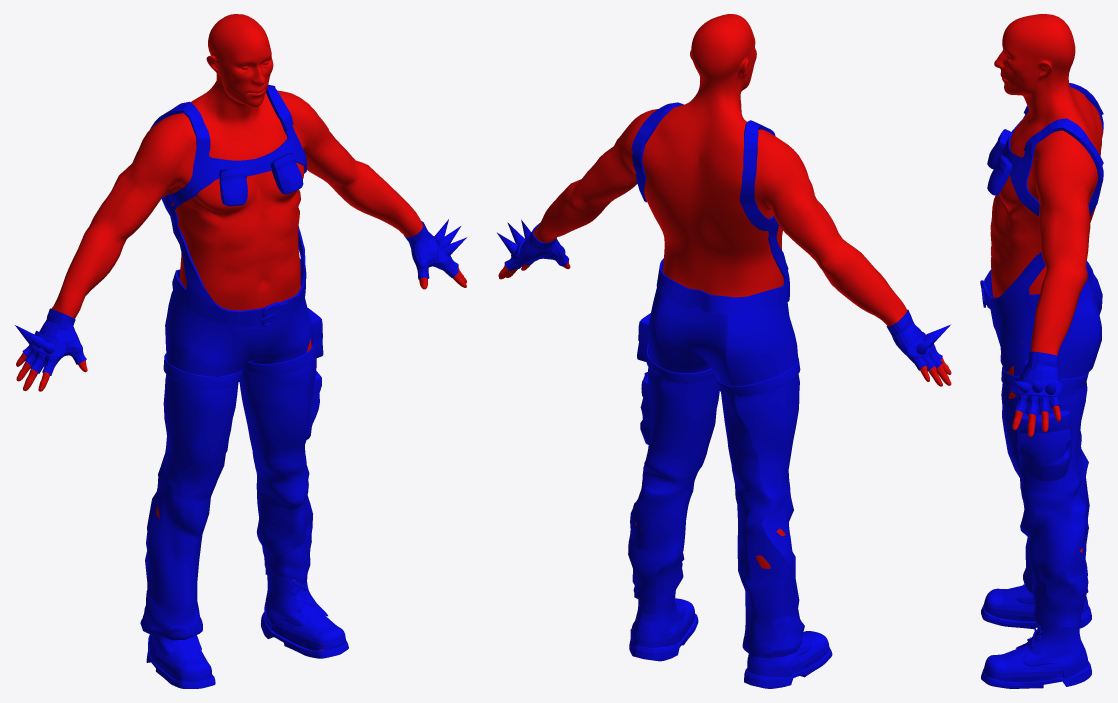
Rendered from Warboy_LP_Combine.fbx.
The picture shows the model from 3 angles, left to right: view 1: azimuth 30°, elevation 25°; view 2: azimuth 150°, elevation 25°; view 3: azimuth 270°, elevation 25°; orthographic projection.
Visible parts, largest first — view 1: SM_Warboy_Combine; view 2: SM_Warboy_Combine; view 3: SM_Warboy_Combine.
Boxes of the visible parts, <box> form: SM_Warboy_Combine: <box>15,14,466,688</box>; SM_Warboy_Combine: <box>497,14,951,688</box>; SM_Warboy_Combine: <box>980,14,1103,688</box>.
Size of the model in its own units: 1.35 by 1.85 by 0.3271.
